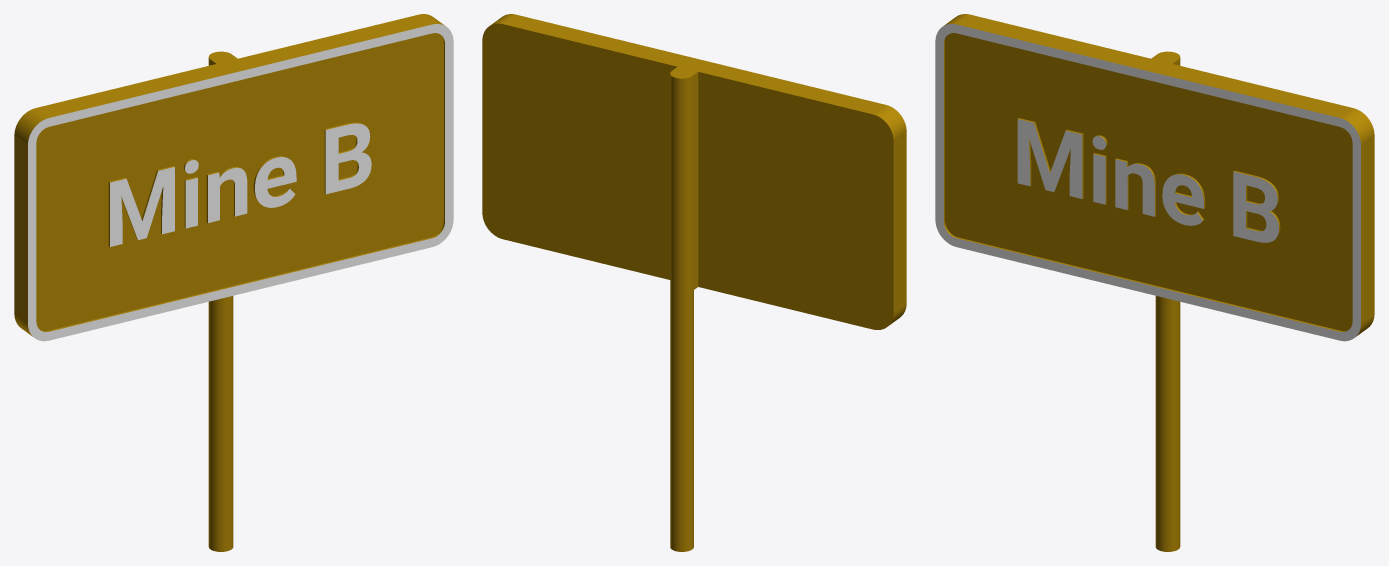
Rendered from place_B.fbx.
3 renders of one model, left to right at view 1: azimuth 30°, elevation 25°; view 2: azimuth 150°, elevation 25°; view 3: azimuth 330°, elevation 25°, orthographic. The views are drawn at different scales.
Parts seen in each view (by area): view 1: Part 1; view 2: Part 1; view 3: Part 1.
Boxes of the visible parts, x1,y1,x2,y2 form: Part 1: (14,14,453,551); Part 1: (482,14,906,551); Part 1: (935,14,1374,551).
Bounding box in the file's own units: 400 × 440 × 41.99.
